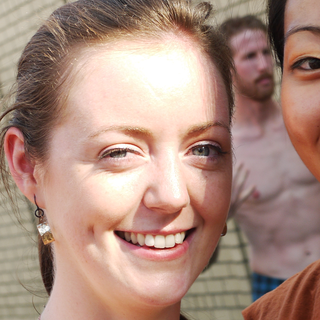eye: (94, 141, 147, 165), (183, 138, 227, 164), (289, 52, 320, 75)
